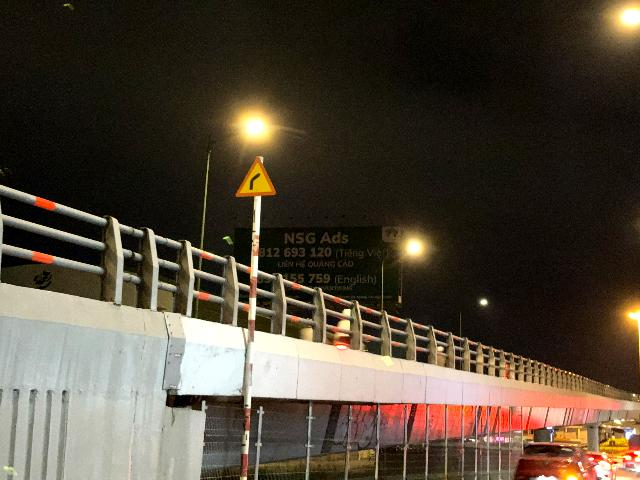cho-ngoat-nguy-hiem-ben-phai: (235, 156, 276, 197)
